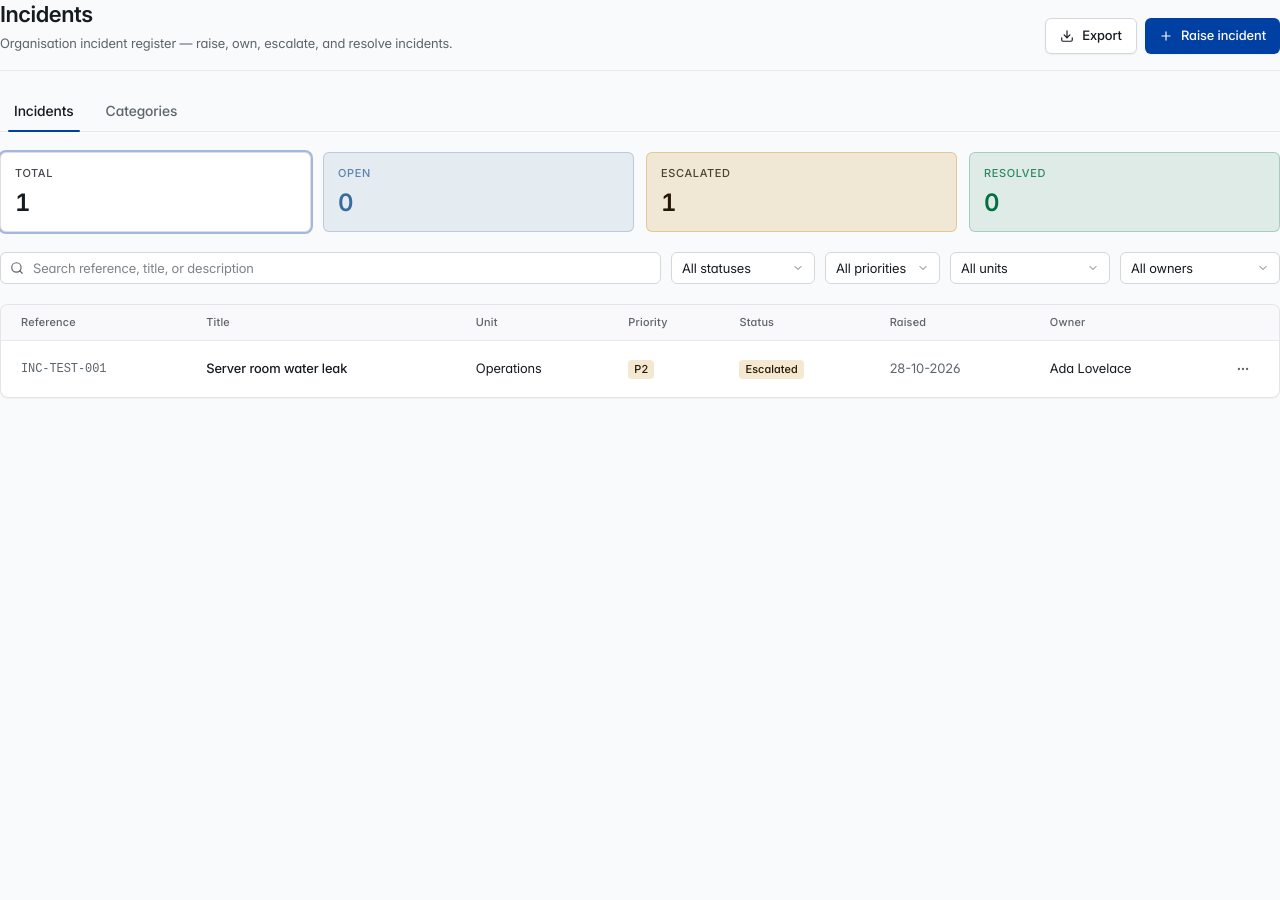
Scenario: IncidentsListPage › shows lifecycle timeline and linked controls panels
Click the text "Server room water leak" at (325, 369), box [190,341,460,397]
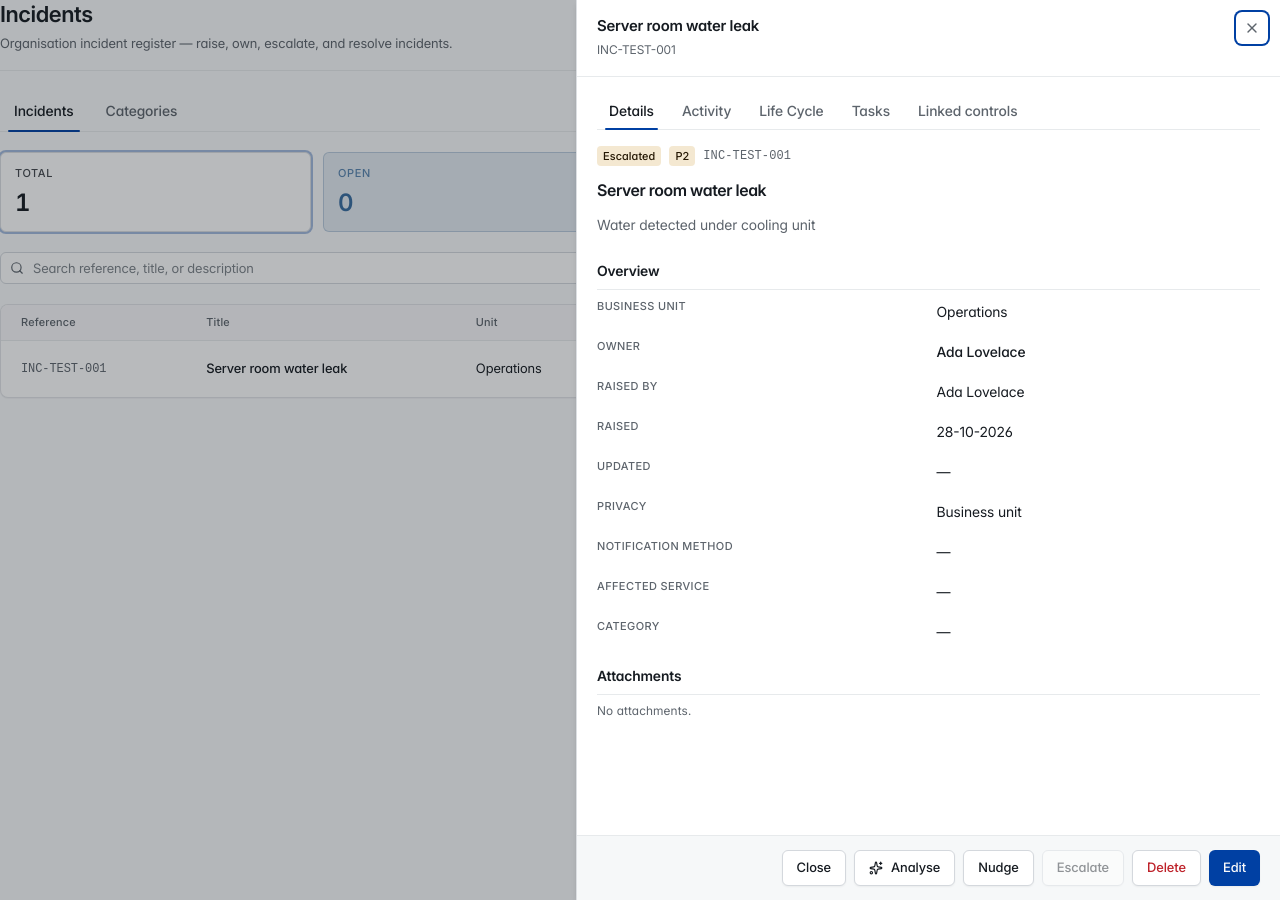
Click the tab "Life Cycle" at (792, 111), box [747,93,836,129]
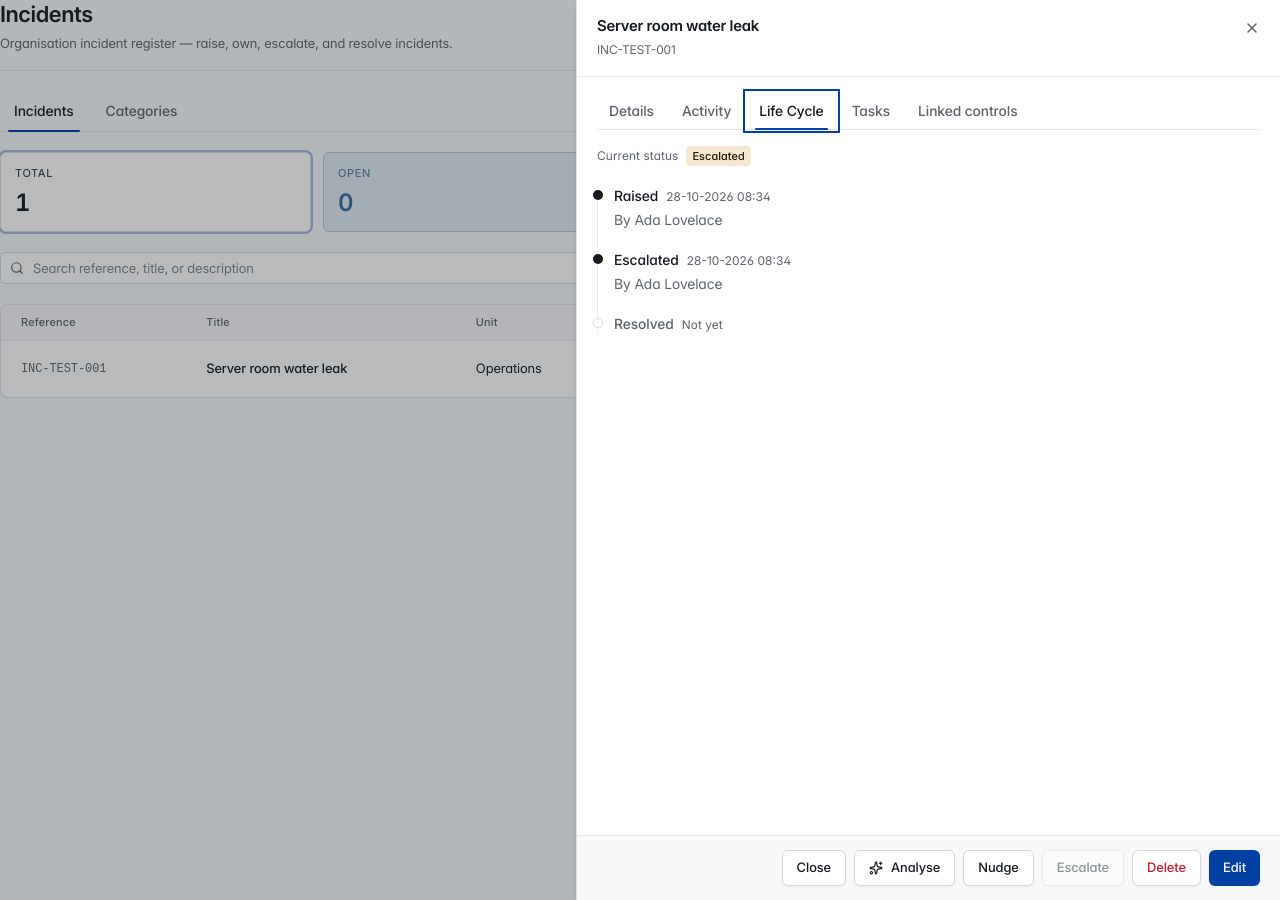
Expected: the 2nd text "Escalated" is shown, [661,166,731,180]
Expected: the text "Current status" is shown, [597,148,678,164]
Expected: the text "Not yet" is shown, [682,317,723,333]
Click the tab "Linked controls" at (968, 111), box [906,93,1029,129]
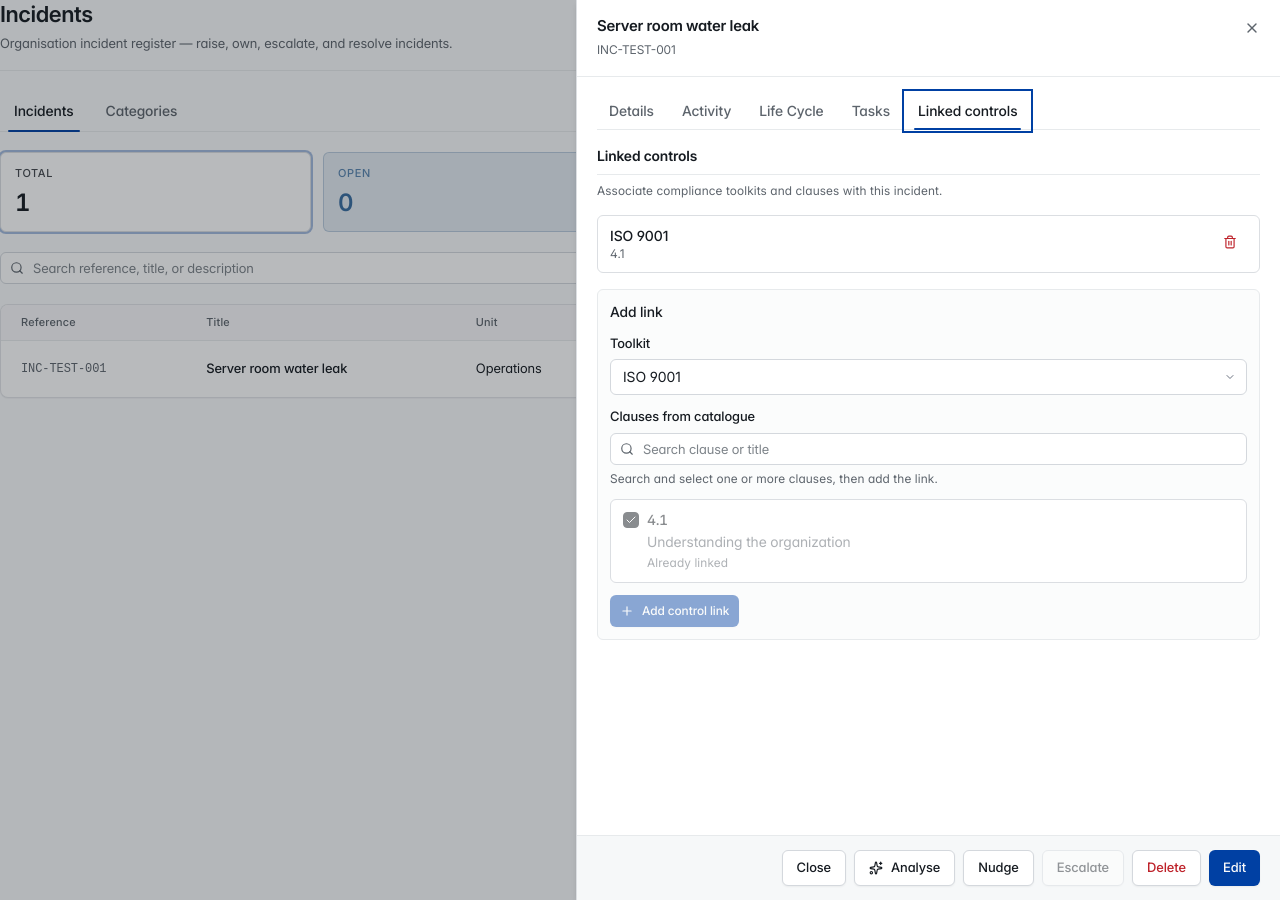
Expected: the link "ISO 9001" is shown, [610,227,668,244]
Expected: the text "4.1" below "ISO 9001" is shown, [610,246,625,261]
Expected: the text "Understanding the organization" is shown, [647,532,851,552]
Click the tab "Tasks" at (871, 111), box [840,93,902,129]
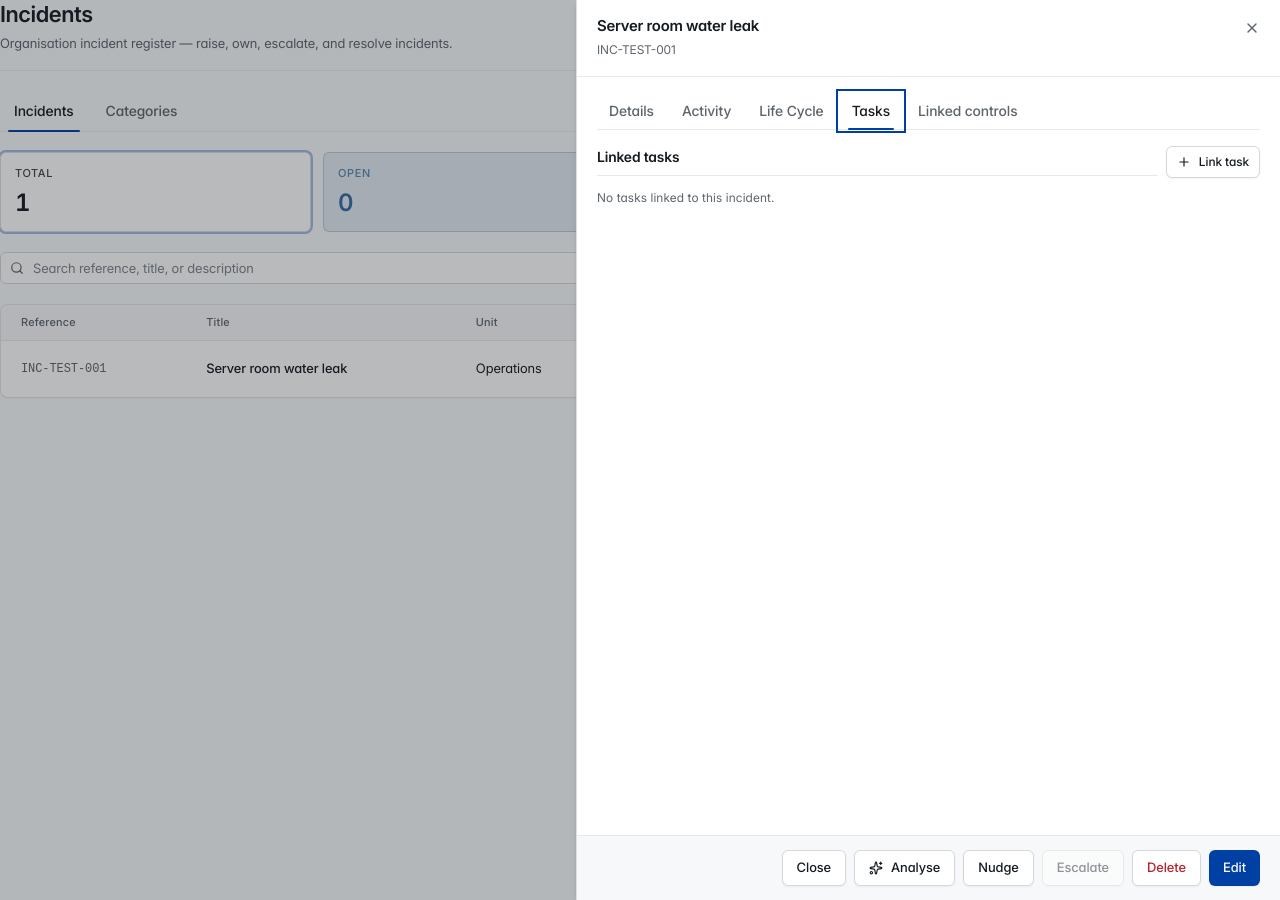
Expected: the text "No tasks linked to this incident." is shown, [597,190,774,205]
